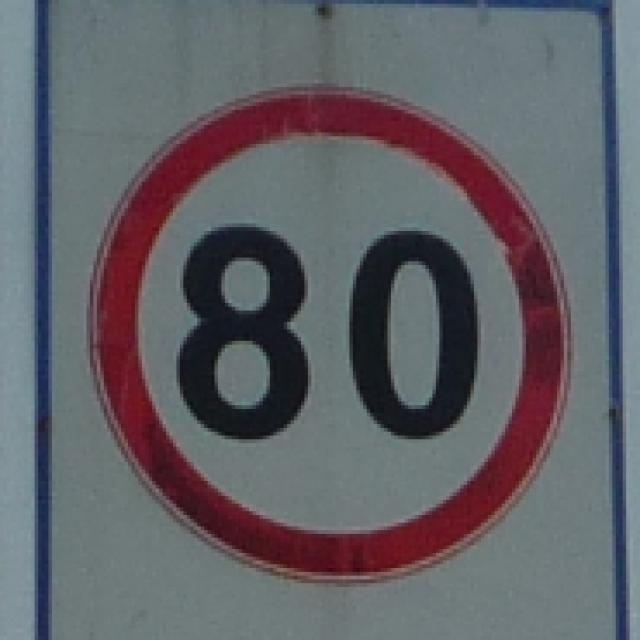speed limit 80: (90, 85, 573, 578)
